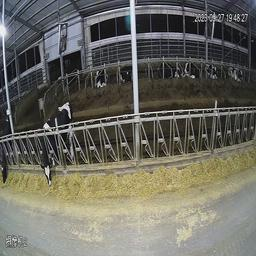cow: (38, 98, 78, 193), (0, 108, 19, 188), (157, 54, 182, 88), (227, 58, 248, 93), (205, 55, 222, 87), (185, 54, 201, 88), (118, 61, 134, 89), (96, 67, 111, 91)
